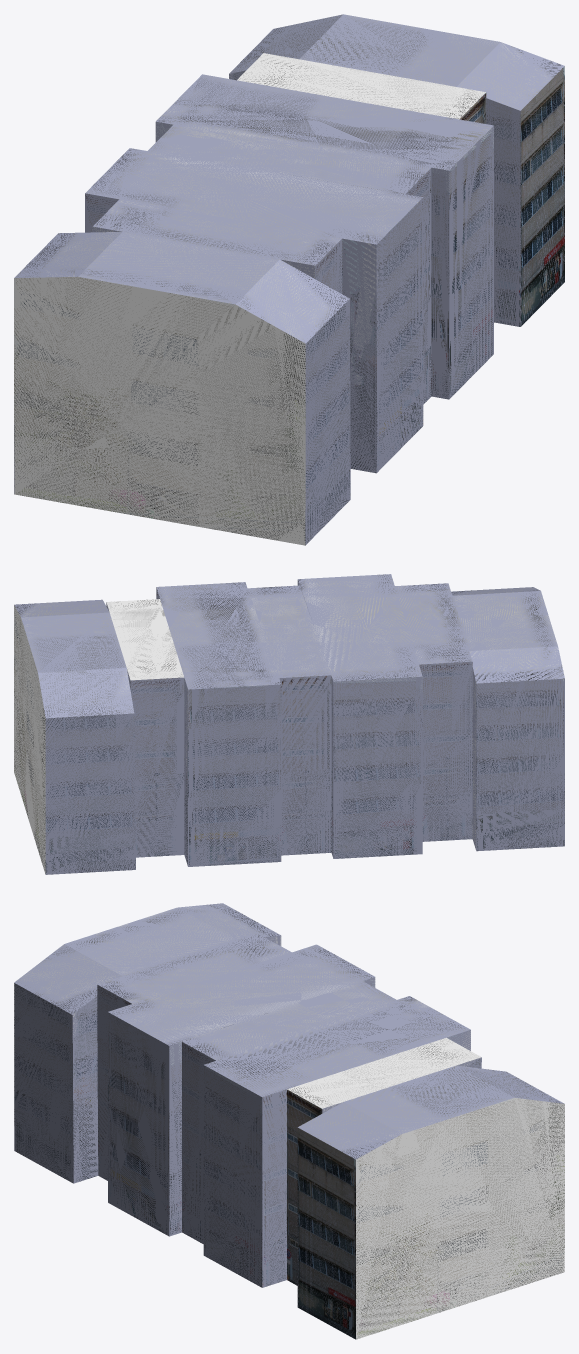
The model's file is Edificio Empresariales Antiguo.fbx.
3 views of the same model, one above another, from view 1: azimuth 30°, elevation 25°; view 2: azimuth 150°, elevation 25°; view 3: azimuth 270°, elevation 25° (orthographic). The views are drawn at different scales.
Visible parts, largest first — view 1: Group1; view 2: Group1; view 3: Group1.
Boxes of the visible parts, x1,y1,x2,y2 form: Group1: [14, 14, 564, 545]; Group1: [14, 574, 564, 874]; Group1: [14, 903, 564, 1339].
Bounding box in the file's own units: 51.69 × 17.93 × 46.95.
